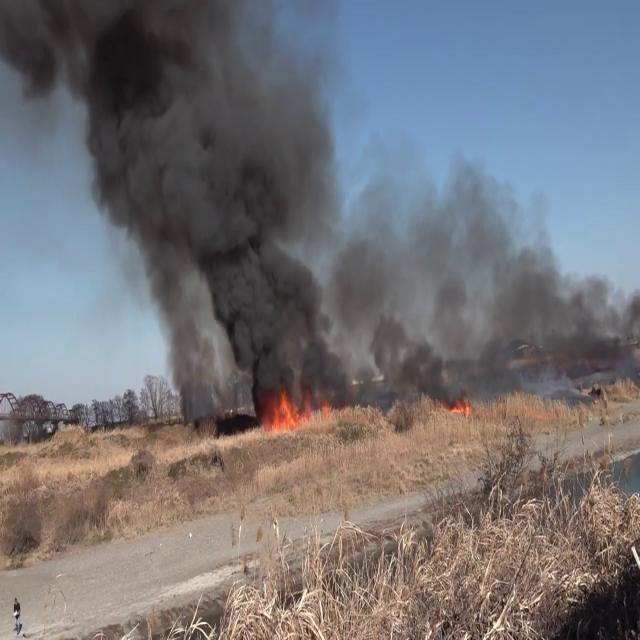Fire: (259, 376, 367, 434)
Smoke: (52, 0, 353, 405), (341, 146, 640, 392)
